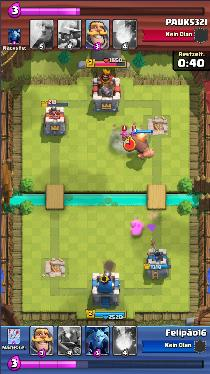ally_giant: (127, 133, 155, 161)
enemy_archer: (119, 128, 129, 140), (130, 129, 137, 137)
